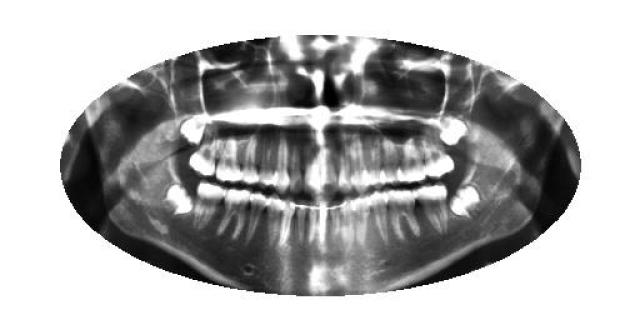Restorations: (449, 182, 486, 222), (164, 179, 195, 221)
